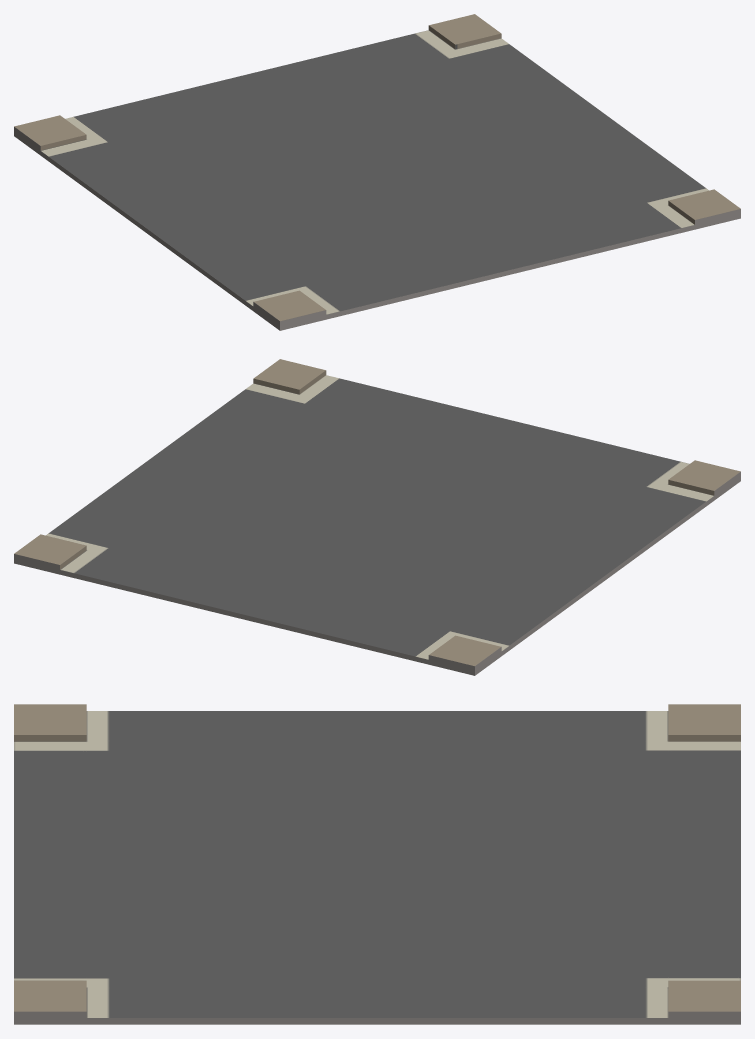
Rendered from road_4_way_junction.glb.
The picture shows the model from 3 angles, top to bottom: view 1: azimuth 30°, elevation 25°; view 2: azimuth 150°, elevation 25°; view 3: azimuth 270°, elevation 25°; orthographic projection. The views are drawn at different scales.
Parts seen in each view (by area): view 1: Cube; view 2: Cube; view 3: Cube.
Part boxes in pixels (x1,y1,x2,y2): Cube: [14, 14, 740, 330]; Cube: [14, 359, 740, 675]; Cube: [14, 704, 740, 1024].
Bounding box in the file's own units: 15 × 0.3 × 15.
Materials: 1 (1 with a texture image).
